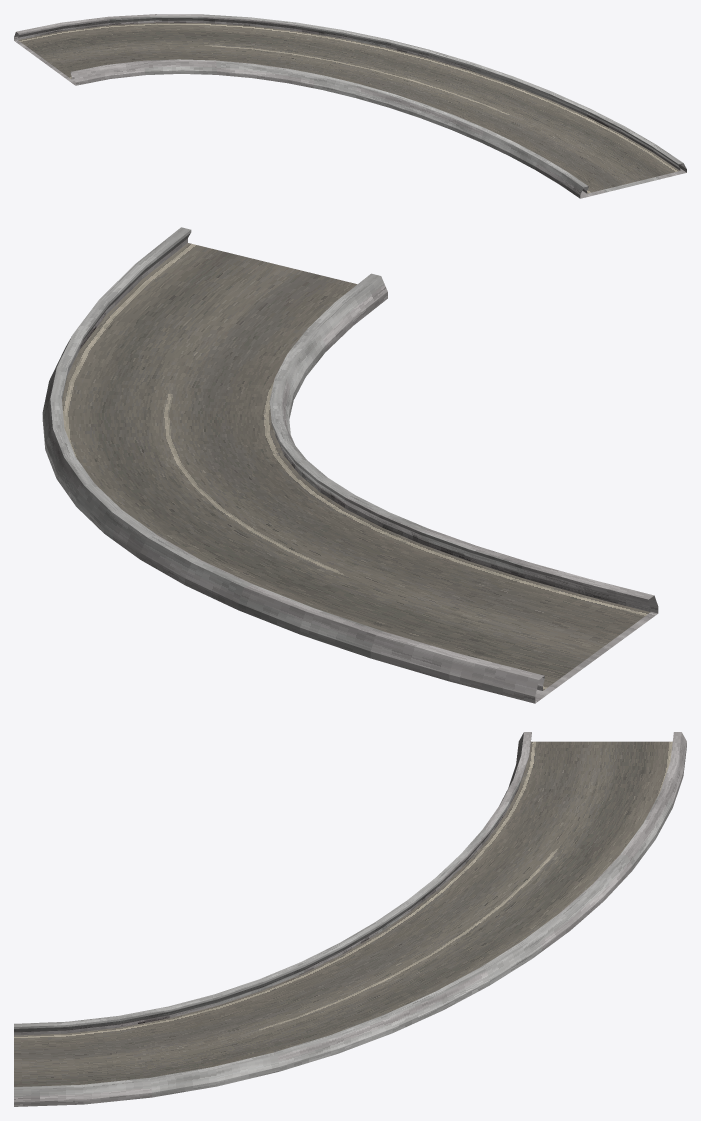
Rendered from turn-left4x4.glb.
3 views of the same model, one above another, from view 1: azimuth 30°, elevation 25°; view 2: azimuth 150°, elevation 25°; view 3: azimuth 270°, elevation 25° (orthographic). The views are drawn at different scales.
Visible parts, largest first — view 1: road-Turn-Flat-Flat-Up2-Left-Size4; view 2: road-Turn-Flat-Flat-Up2-Left-Size4; view 3: road-Turn-Flat-Flat-Up2-Left-Size4.
Part boxes in pixels (x1,y1,x2,y2): road-Turn-Flat-Flat-Up2-Left-Size4: (14, 14, 686, 198); road-Turn-Flat-Flat-Up2-Left-Size4: (42, 227, 658, 703); road-Turn-Flat-Flat-Up2-Left-Size4: (14, 732, 686, 1106).
Bounding box in the file's own units: 4 × 0.5938 × 4.
Materials: 2 (2 with a texture image).
